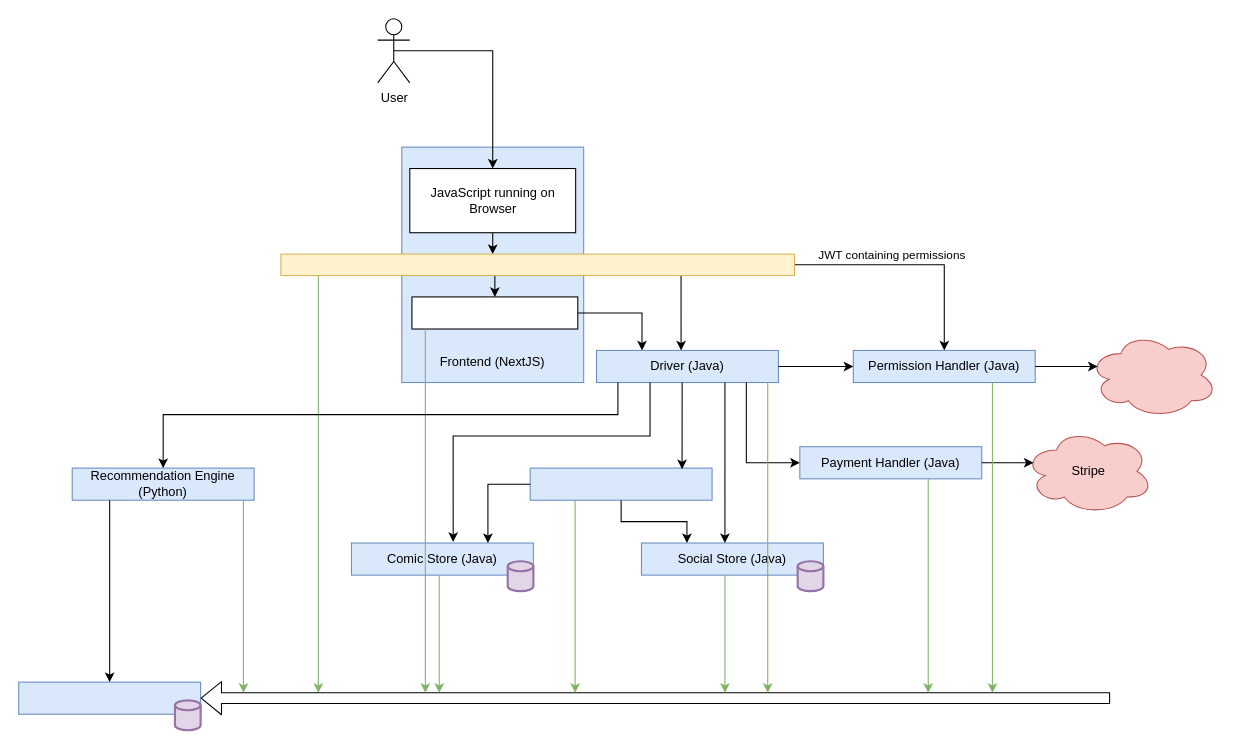
Image size: 1236x750. Some labels were removed from this diagram. Each missing label, with the centre of its shape:
Auth Source: [1152,374]
CDN: [537,264]
Event Store: [109,697]
NextJS Server: [494,312]
Viewer (Java): [620,483]
